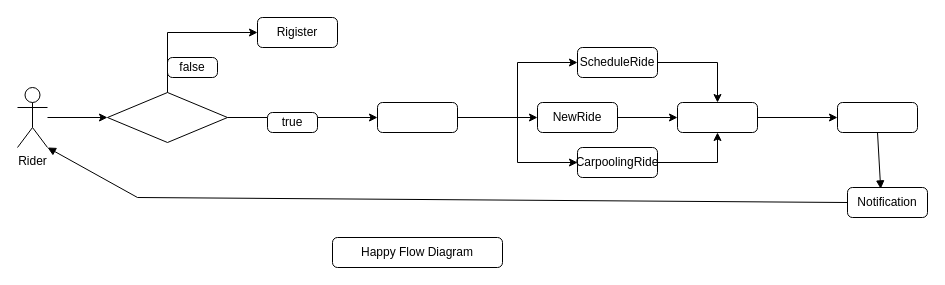
Image size: 945x285. Some labels were removed from this diagram. Each missing label, with the centre of its shape:
Driver: (x=717, y=117)
if(registered): (x=167, y=117)
Payment: (x=877, y=117)
RideBooking: (x=417, y=117)
